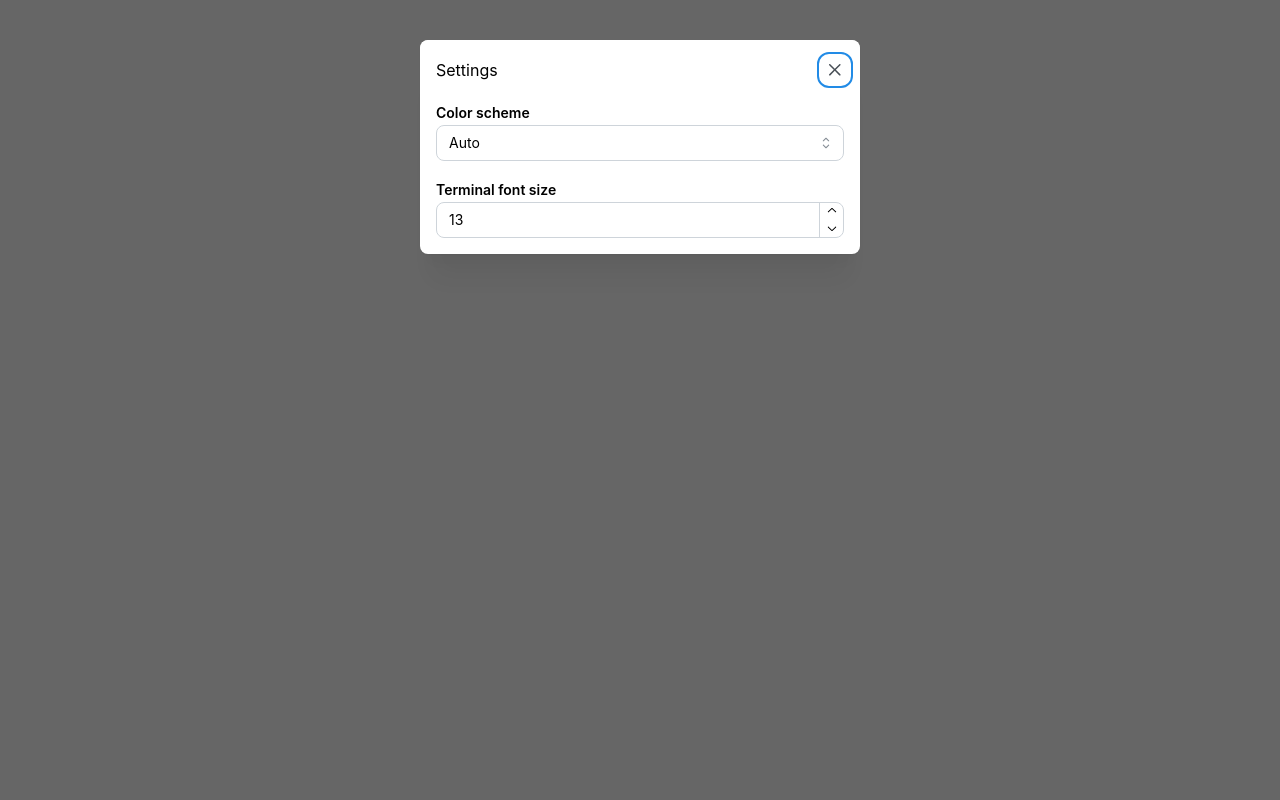
Test: SettingsModal › renders the Color scheme Select with three options (Light, Dark, Auto)
Expected: the dialog is shown, top-left (420, 40), bottom-right (860, 254)
// Open the Select dropdown to see its options
Click the dropdown labelled "Color scheme".
click(640, 143)  # box top-left (436, 125), bottom-right (844, 161)
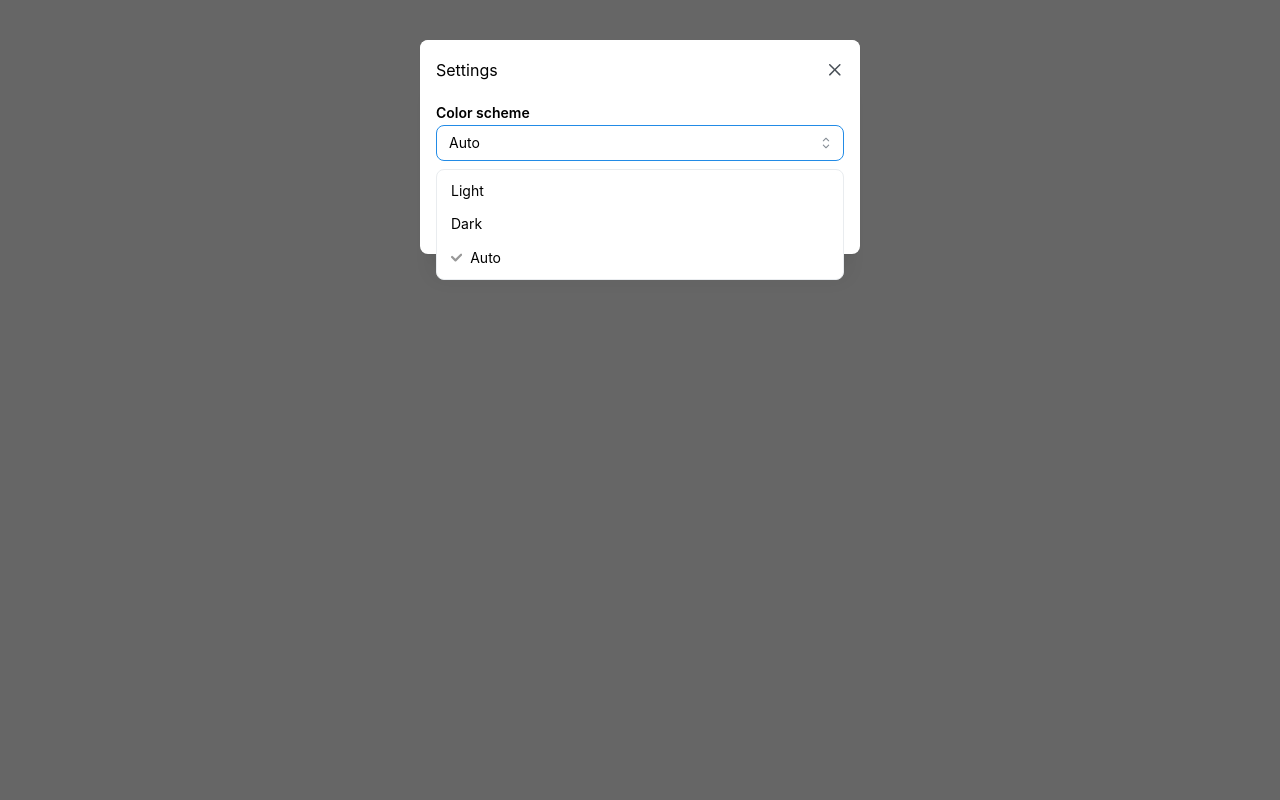
Now the option "Light" is shown, box top-left (451, 182), bottom-right (484, 199)
Now the option "Dark" is shown, box top-left (451, 216), bottom-right (482, 232)
